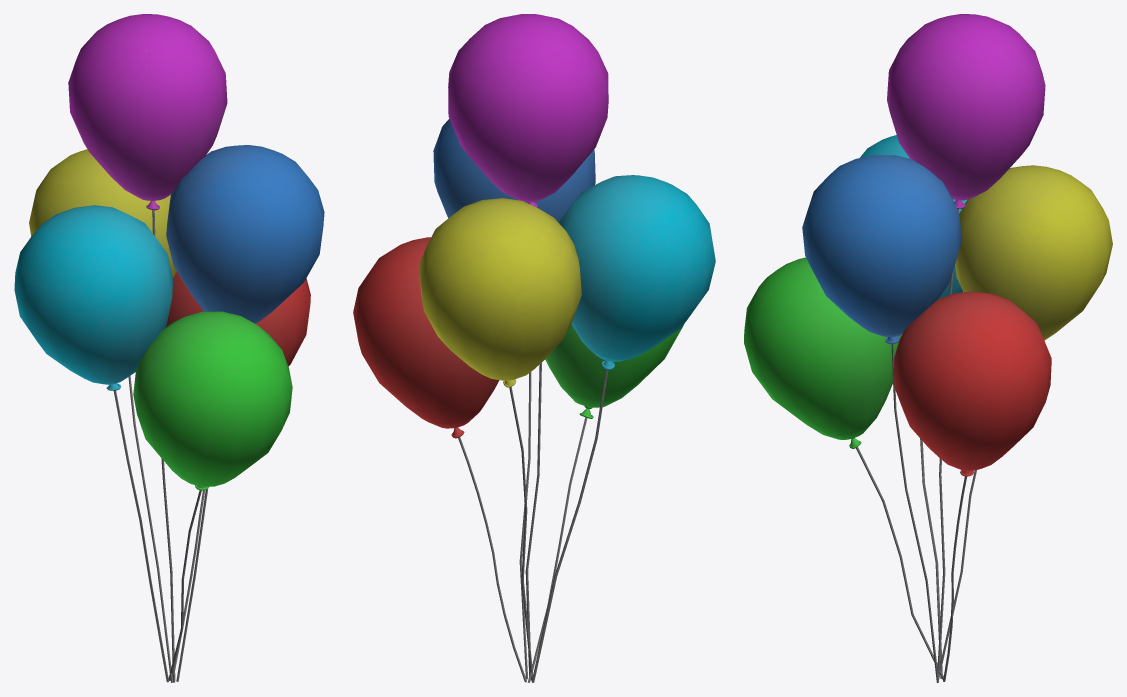
Rendered from balloon.fbx.
3 renders of one model, left to right at view 1: azimuth 30°, elevation 25°; view 2: azimuth 150°, elevation 25°; view 3: azimuth 270°, elevation 25°, orthographic. The views are drawn at different scales.
Parts seen in each view (by area): view 1: balloon; view 2: balloon; view 3: balloon.
Boxes of the visible parts, x1=… form: balloon: x1=14, y1=14, x2=324, y2=682; balloon: x1=353, y1=14, x2=715, y2=682; balloon: x1=744, y1=14, x2=1112, y2=682.
Size of the model in its own units: 26.57 by 54.42 by 27.87.
